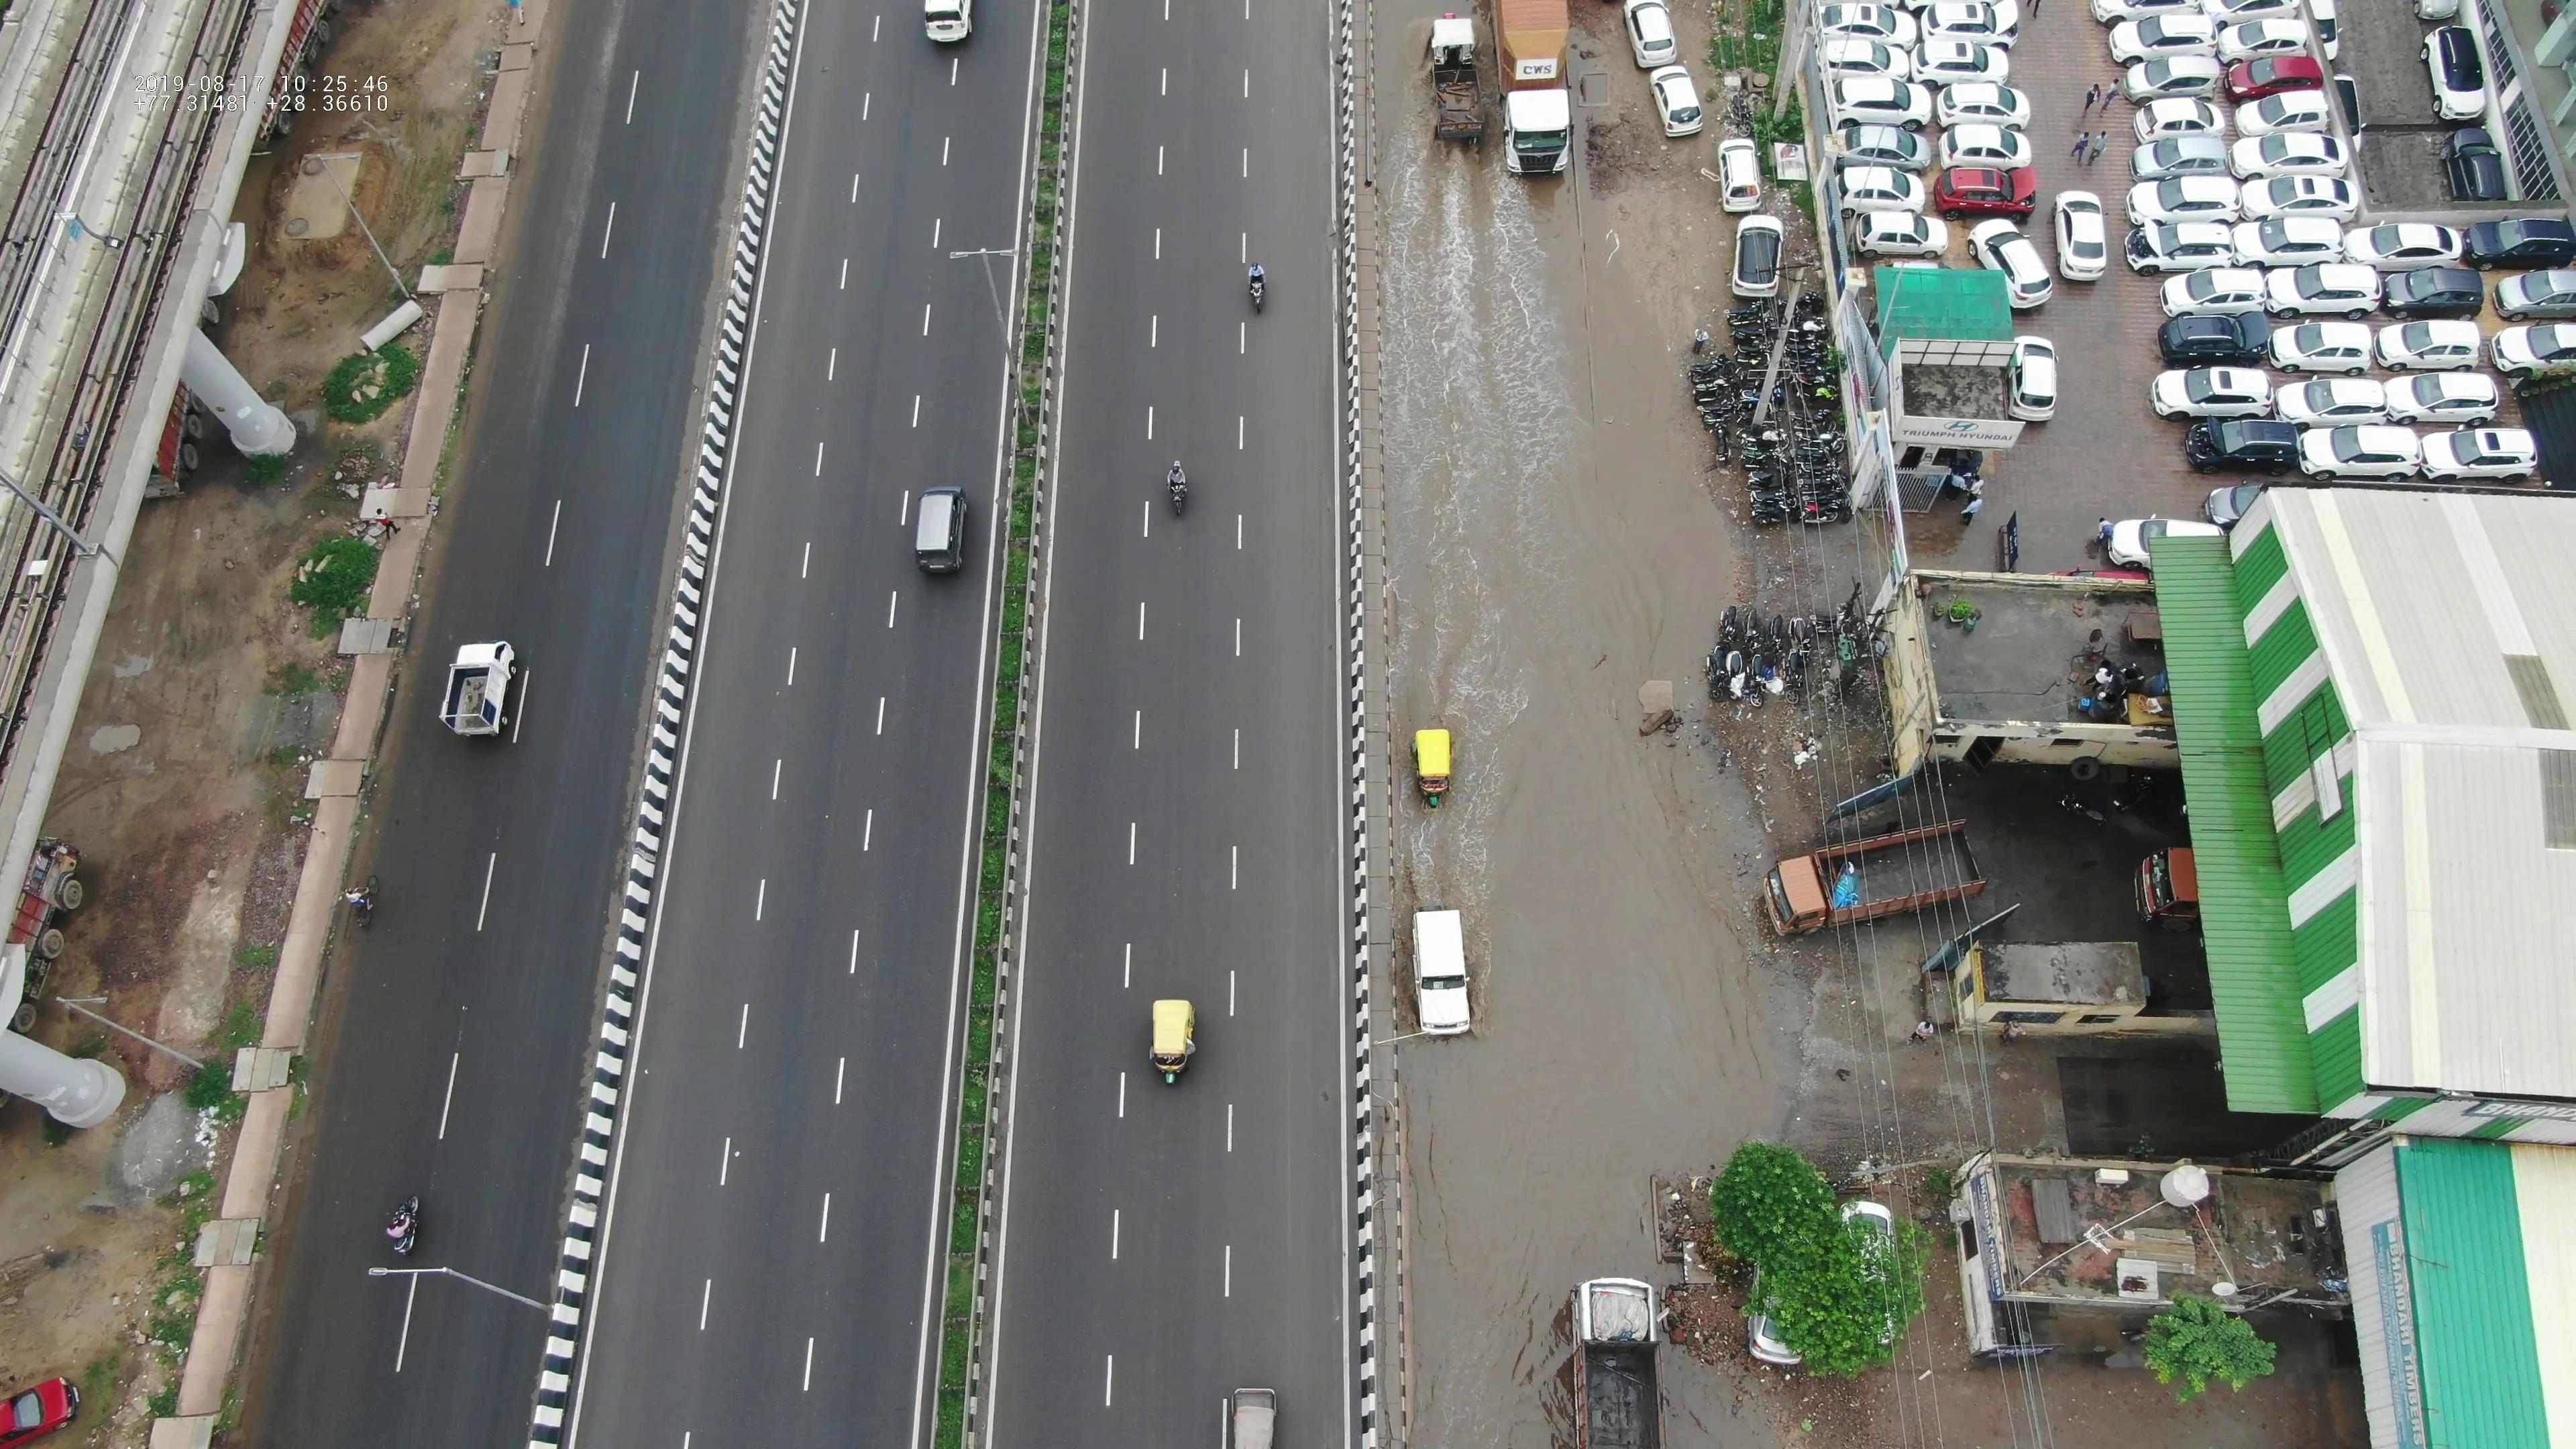Waterlogging: (1380, 345, 1729, 1194), (1376, 0, 1571, 297)
